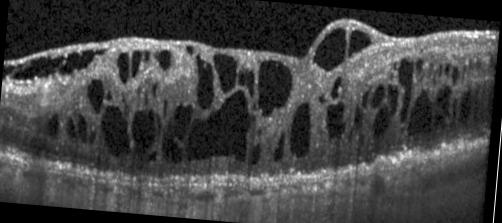intraretinal_cyst: (185, 89, 255, 161), (258, 60, 292, 116), (99, 105, 131, 156), (313, 28, 346, 71), (393, 59, 413, 124), (11, 56, 64, 79), (289, 102, 311, 157), (406, 89, 432, 134), (130, 109, 156, 153), (59, 49, 104, 74), (195, 53, 213, 109), (213, 53, 236, 92), (161, 127, 185, 162), (324, 101, 345, 139), (432, 86, 451, 128), (347, 30, 371, 57), (87, 79, 104, 114), (372, 107, 388, 137), (116, 52, 128, 83), (386, 84, 398, 115), (459, 90, 470, 123), (174, 105, 192, 125), (371, 84, 386, 107), (154, 50, 170, 70), (47, 113, 59, 136), (131, 51, 141, 77), (274, 134, 283, 160), (330, 77, 340, 99), (353, 104, 362, 128), (78, 115, 86, 141), (246, 71, 254, 96), (251, 144, 260, 164), (66, 117, 75, 137), (121, 92, 129, 114), (2, 66, 15, 79), (155, 113, 162, 135), (361, 90, 369, 109), (451, 67, 459, 85), (88, 124, 95, 143), (415, 59, 423, 75), (451, 99, 456, 119), (238, 70, 244, 85), (444, 63, 450, 77), (427, 63, 433, 77), (147, 151, 156, 160), (163, 99, 167, 119), (431, 72, 436, 86), (474, 60, 481, 69), (106, 90, 112, 100), (461, 66, 465, 81), (468, 60, 472, 75), (319, 94, 326, 102), (186, 46, 192, 55), (152, 84, 156, 96), (438, 65, 442, 76), (419, 73, 424, 81), (145, 52, 149, 61), (144, 95, 147, 105), (389, 73, 393, 80), (137, 88, 140, 94)
